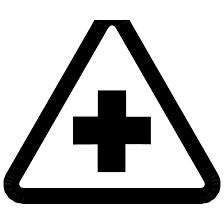Hospital: (20, 15, 191, 204)
